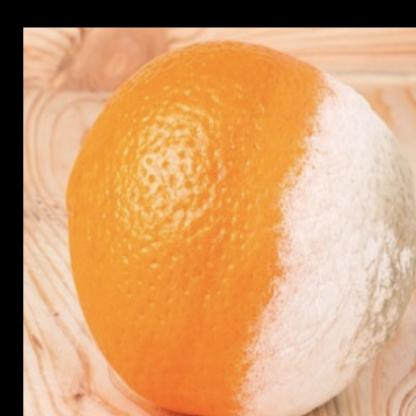rotten: (71, 42, 416, 416)
